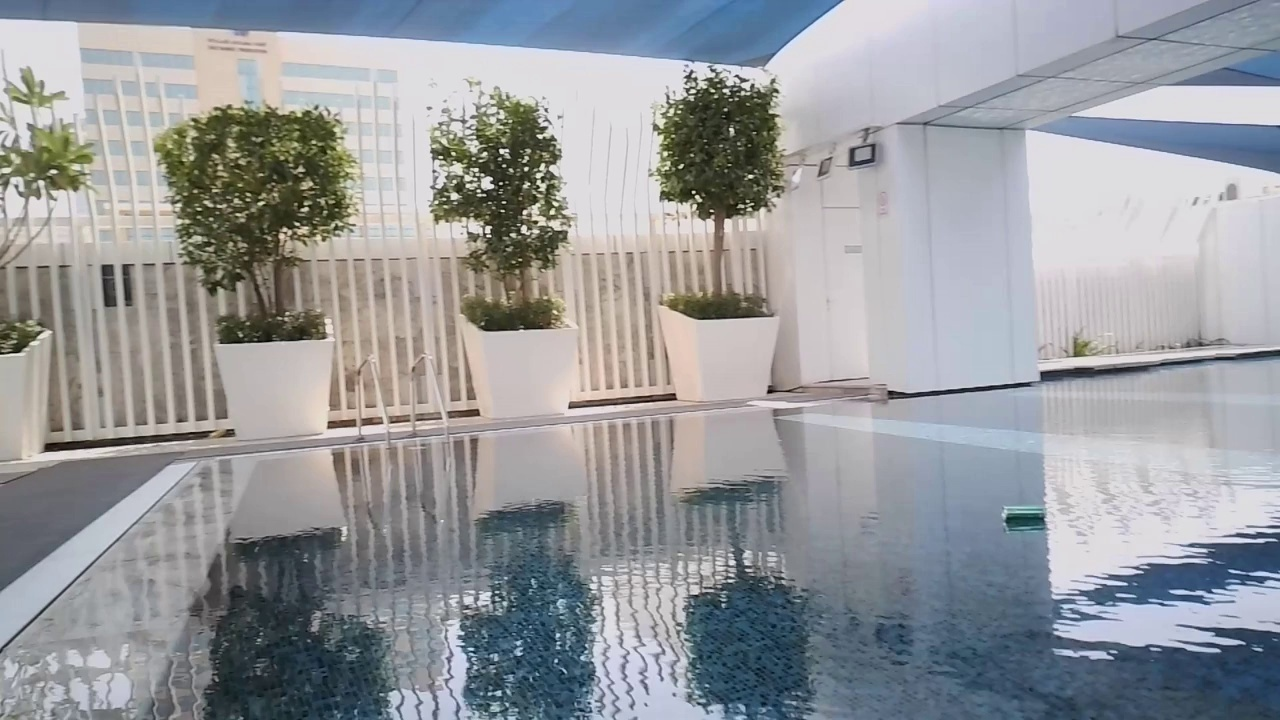debris: (998, 502, 1049, 537)
